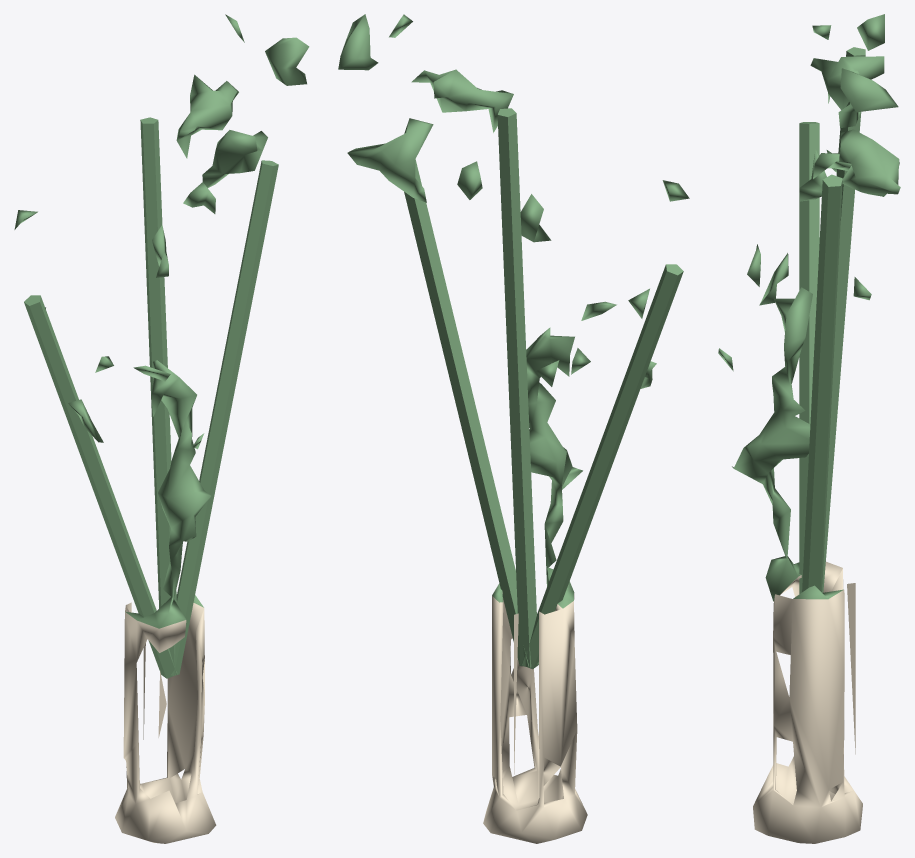
The picture shows the model from 3 angles, left to right: view 1: azimuth 30°, elevation 25°; view 2: azimuth 150°, elevation 25°; view 3: azimuth 270°, elevation 25°; orthographic projection. The views are drawn at different scales.
Visible parts, largest first — view 1: 잎 가지 꽃병, Reinforced branch.001, Reinforced branch.002, Reinforced branch; view 2: 잎 가지 꽃병, Reinforced branch.002, Reinforced branch.001, Reinforced branch; view 3: 잎 가지 꽃병, Reinforced branch.001, Reinforced branch, Reinforced branch.002.
Boxes of the visible parts, bbox=[...] form: 잎 가지 꽃병: bbox=[14, 14, 309, 843]; Reinforced branch.001: bbox=[171, 160, 278, 675]; Reinforced branch.002: bbox=[140, 117, 176, 675]; Reinforced branch: bbox=[24, 295, 177, 678]; 잎 가지 꽃병: bbox=[338, 14, 689, 843]; Reinforced branch.002: bbox=[497, 108, 538, 667]; Reinforced branch.001: bbox=[404, 159, 528, 666]; Reinforced branch: bbox=[521, 264, 683, 669]; 잎 가지 꽃병: bbox=[718, 14, 900, 843]; Reinforced branch.001: bbox=[802, 174, 842, 592]; Reinforced branch: bbox=[799, 122, 819, 593]; Reinforced branch.002: bbox=[822, 47, 865, 592].
Bounding box in the file's own units: 33.77 × 79.99 × 15.32.
